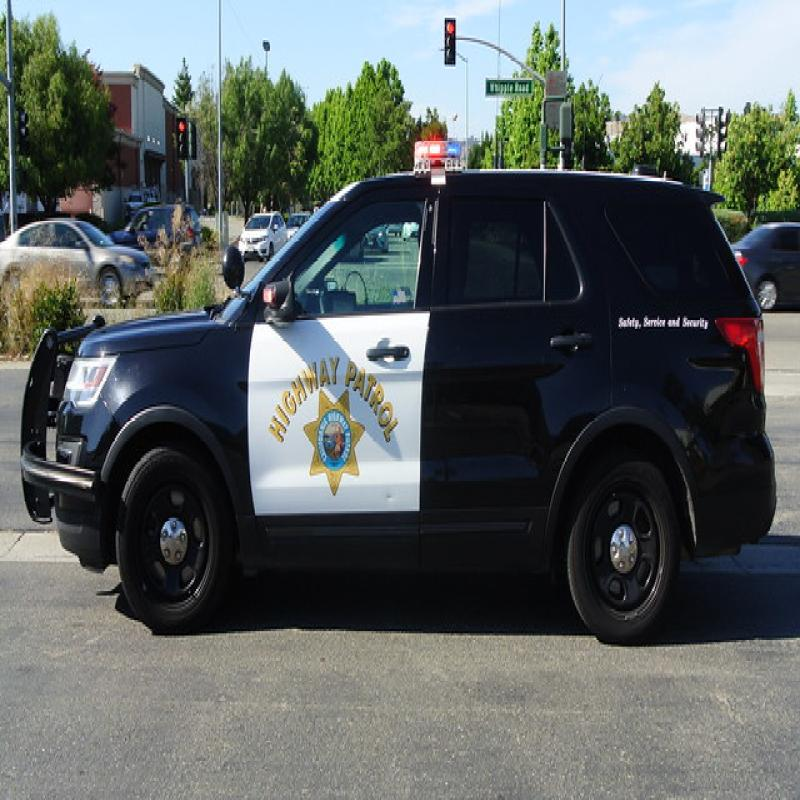AmbulanceSiren: (401, 138, 465, 163)
